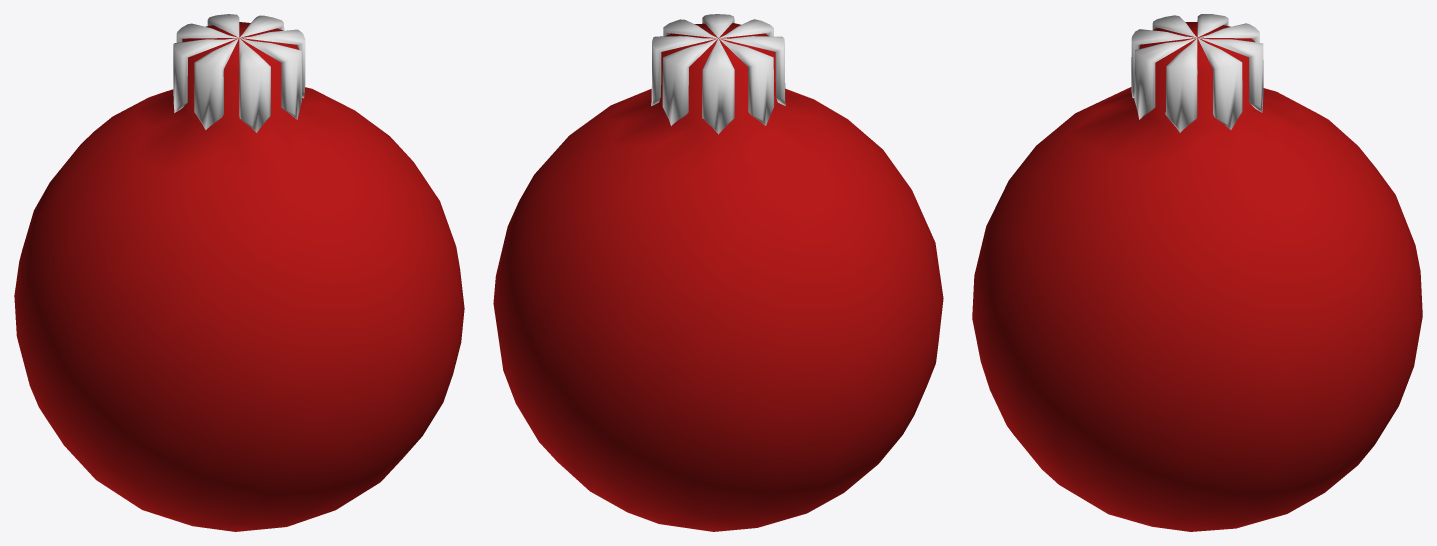
Rendered from NewYear.fbx.
3 renders of one model, left to right at view 1: azimuth 30°, elevation 25°; view 2: azimuth 150°, elevation 25°; view 3: azimuth 270°, elevation 25°, orthographic.
Parts seen in each view (by area): view 1: Ball; view 2: Ball; view 3: Ball.
Part boxes in pixels (box(x1,y1,x2,y2)): Ball: box(14, 14, 464, 531); Ball: box(493, 14, 943, 531); Ball: box(972, 14, 1422, 531).
Bounding box in the file's own units: 5947 × 6910 × 5945.
